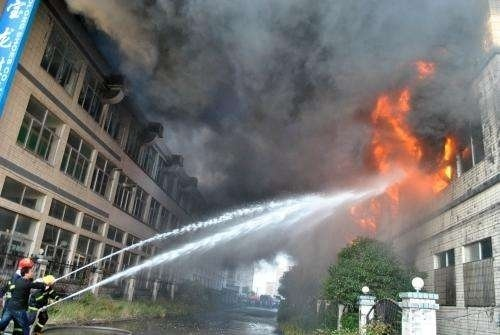fire: (348, 60, 459, 229)
